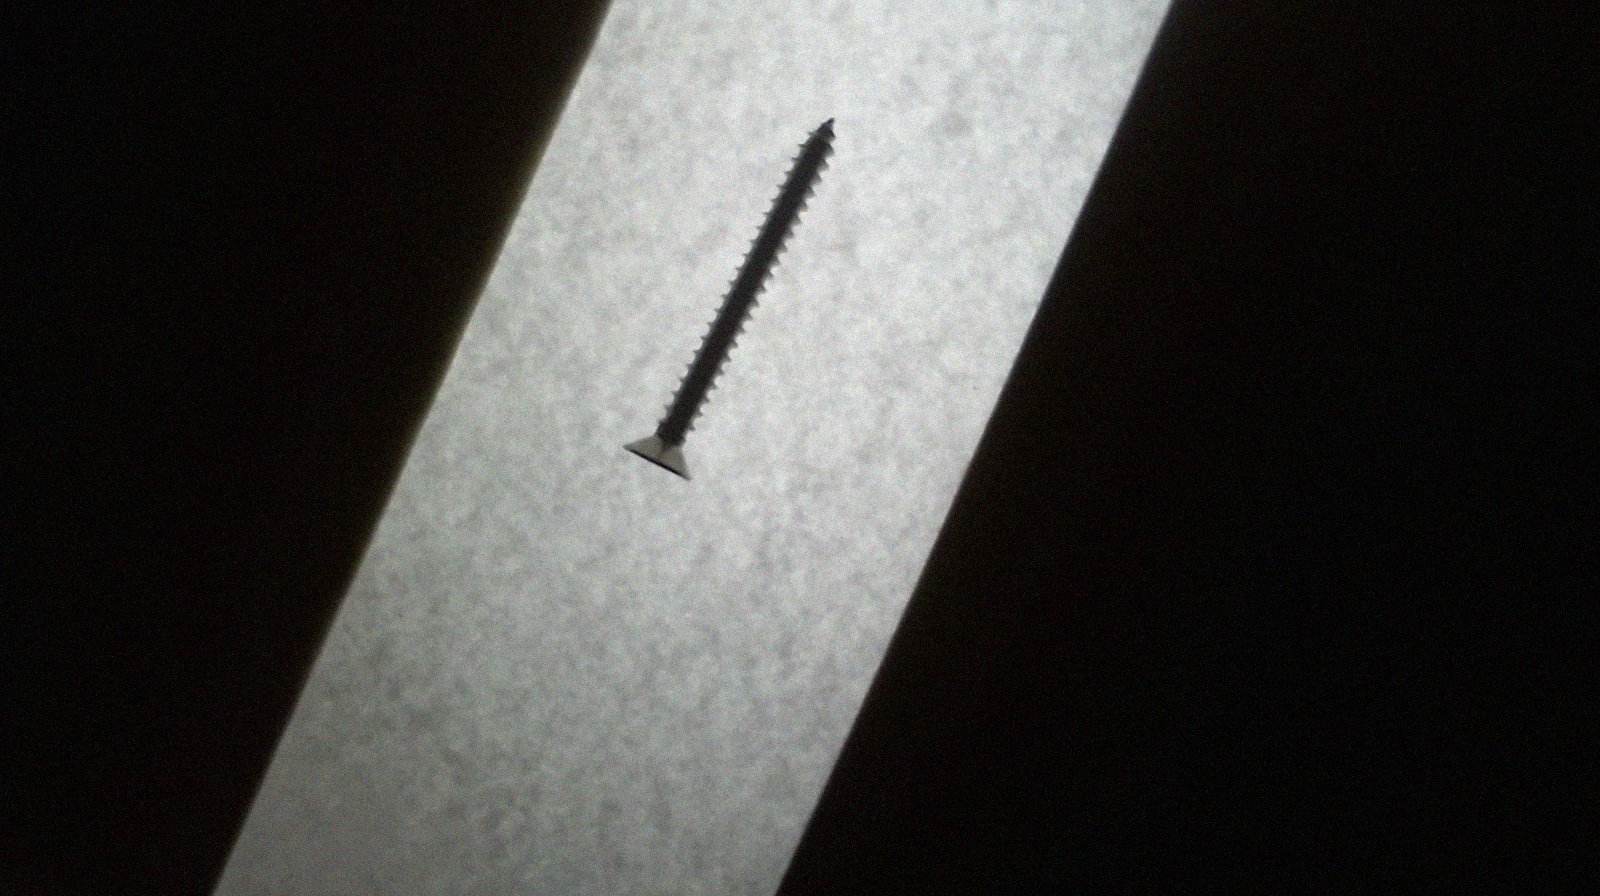S002: (605, 100, 851, 493)
